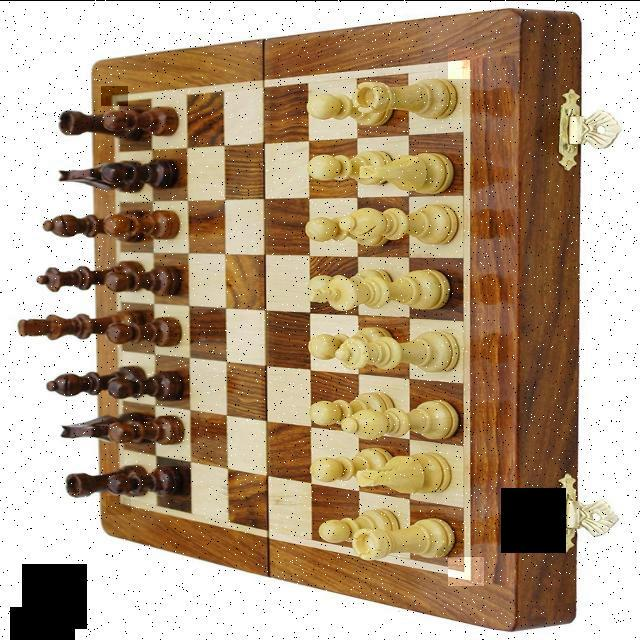chess-table-corners: (448, 46, 486, 78), (448, 554, 484, 584), (102, 85, 130, 105), (106, 495, 131, 514)
